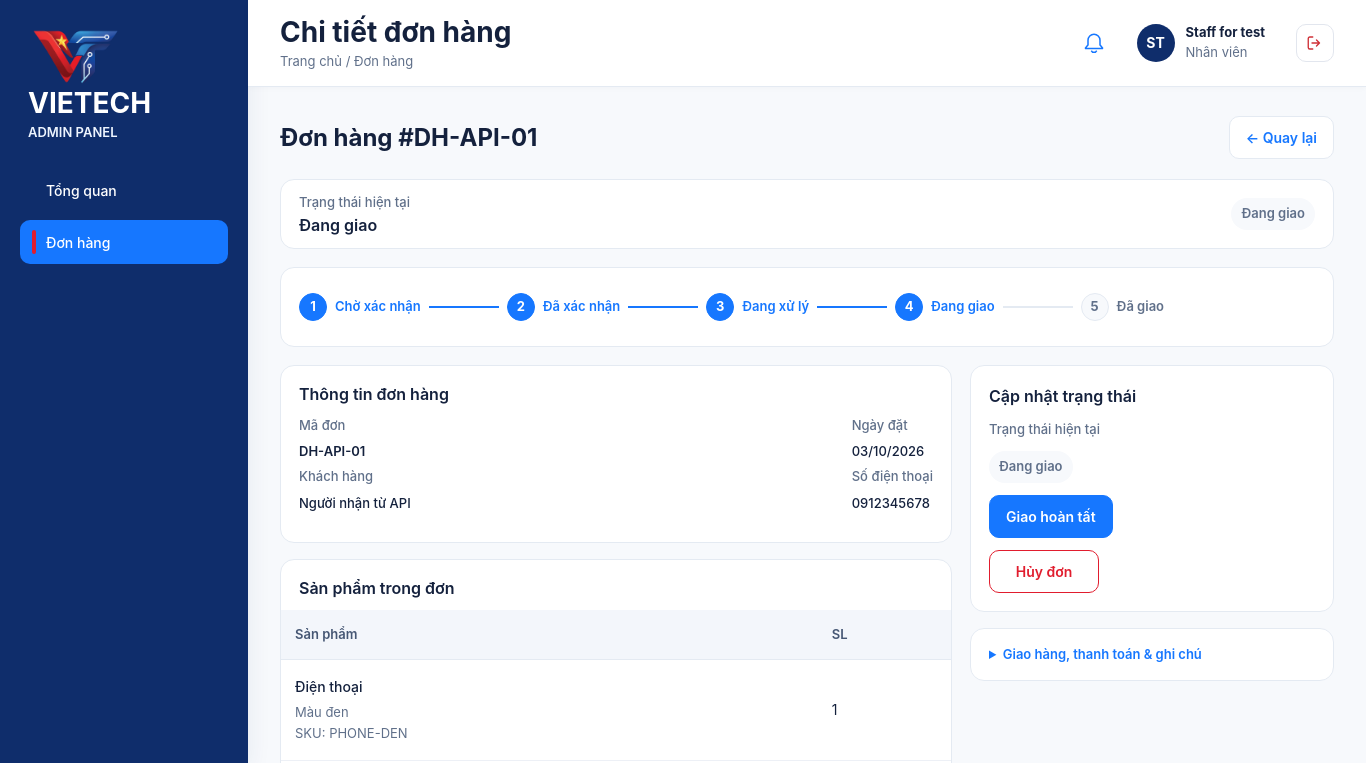
Test: COD confirmation on the page requires collection and refreshes the payment state
Click the button "Giao hoàn tất".
click(1051, 516)  # box [989,495,1113,538]
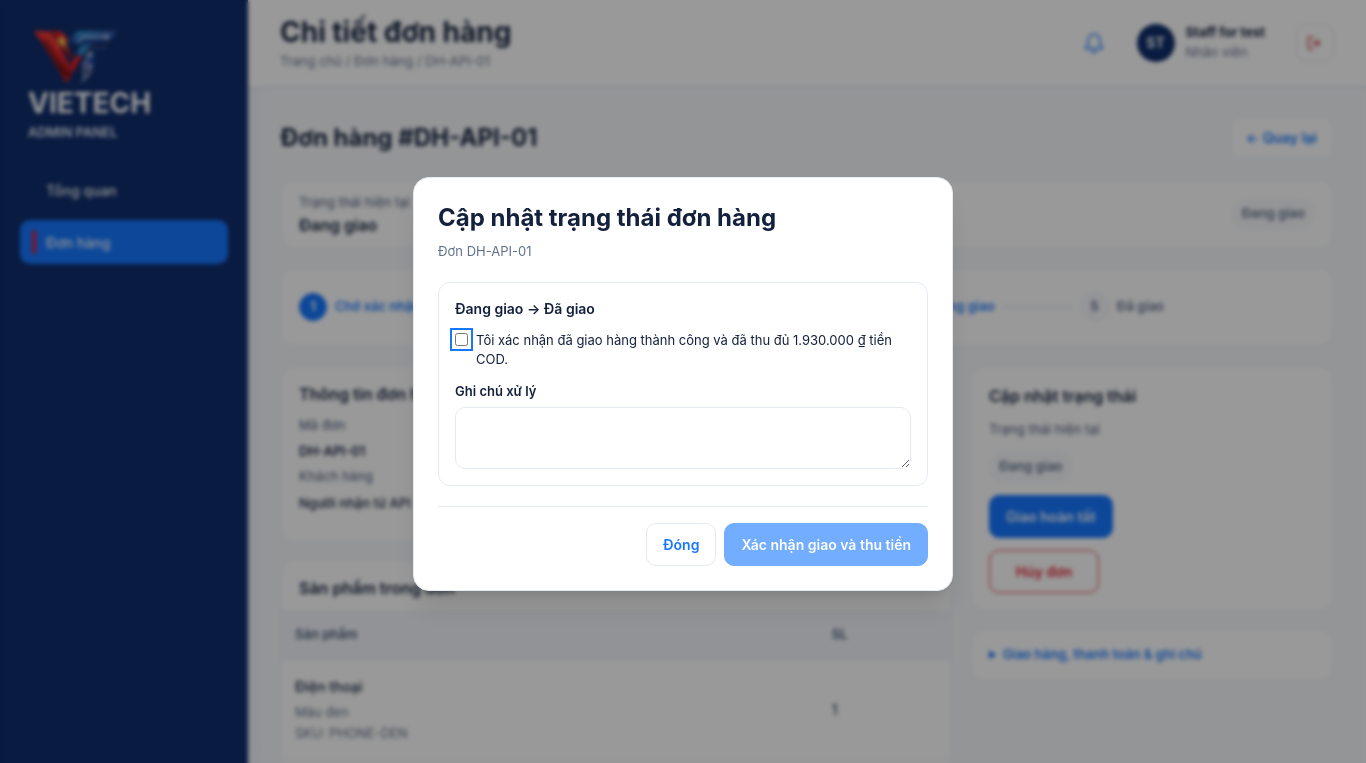
Expected: the button "Xác nhận giao và thu tiền" is disabled, [724,523,928,566]
Click the checkbox labelled "Tôi xác nhận đã giao hàng thành công".
click(462, 339)  # box [455,333,468,346]
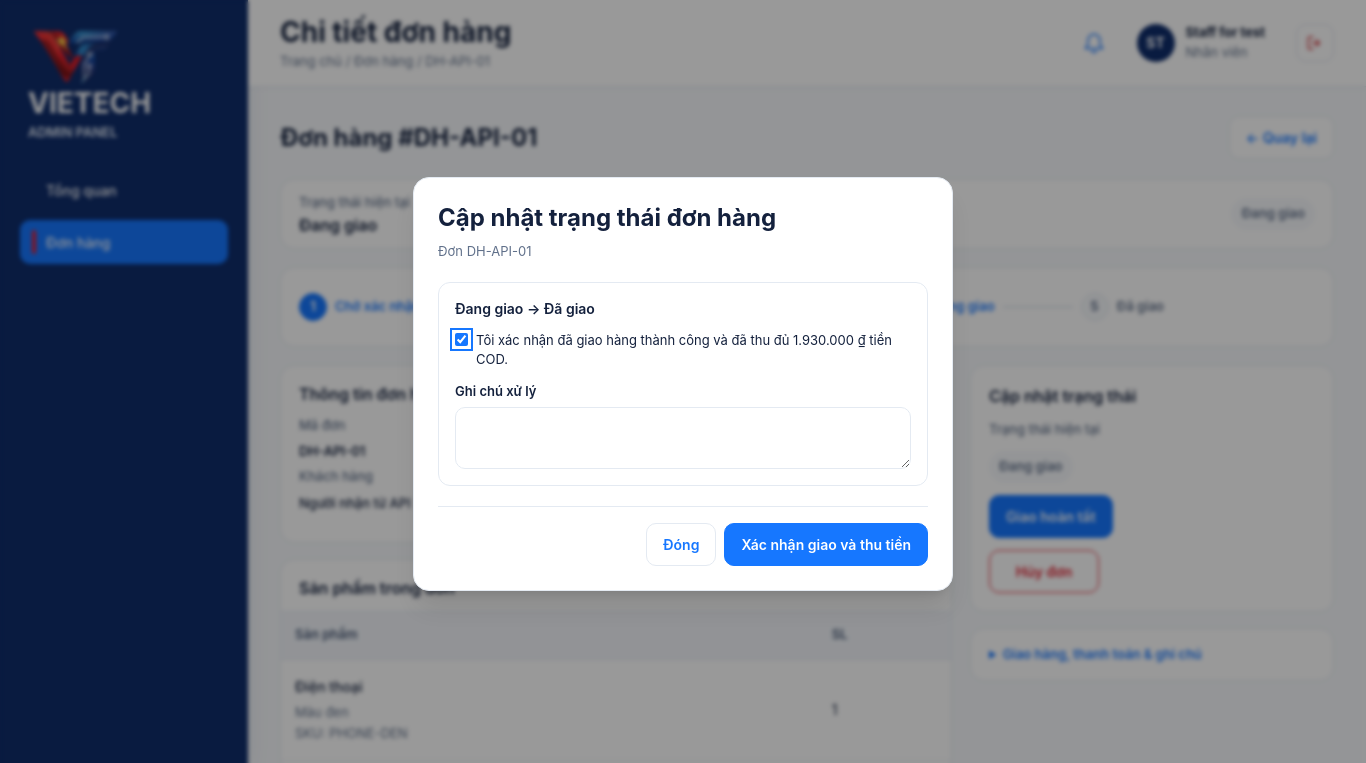
Click the button "Xác nhận giao và thu tiền".
click(826, 545)  # box [724,523,928,566]
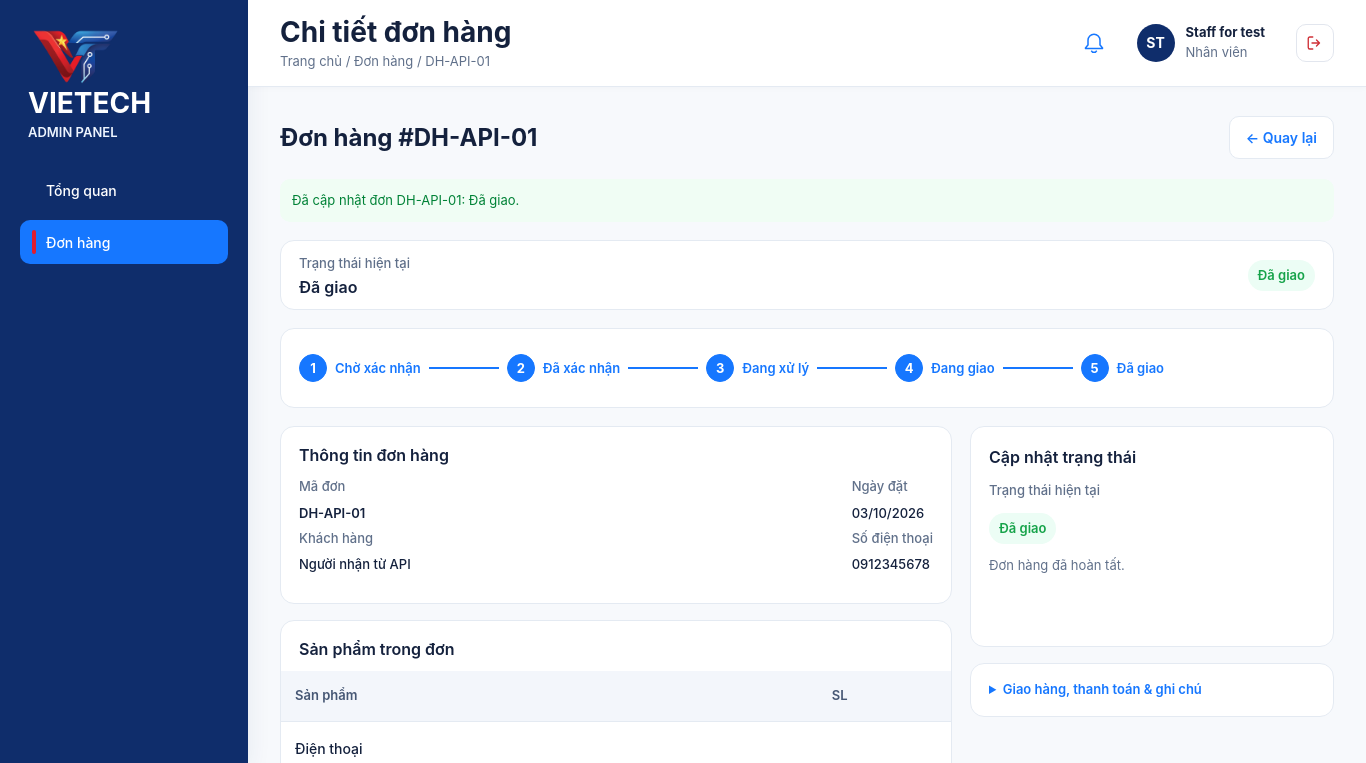
Expected: the text "Đơn hàng đã hoàn tất." is shown, [989,556,1125,576]
